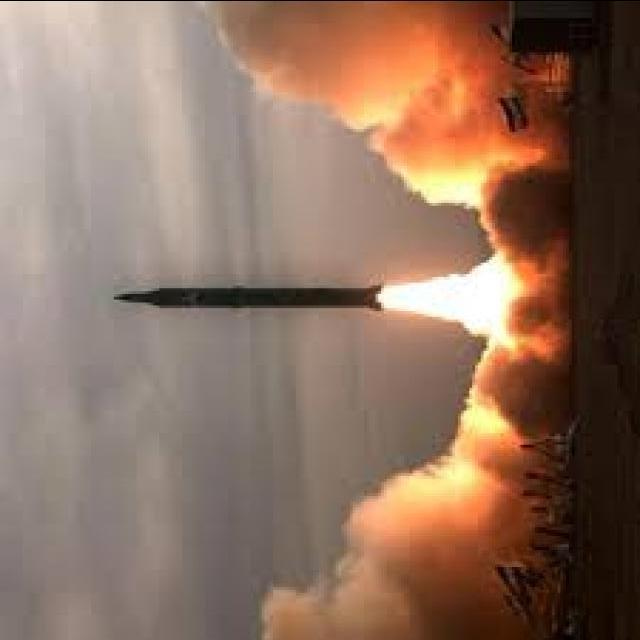Missile: (105, 278, 405, 322)
